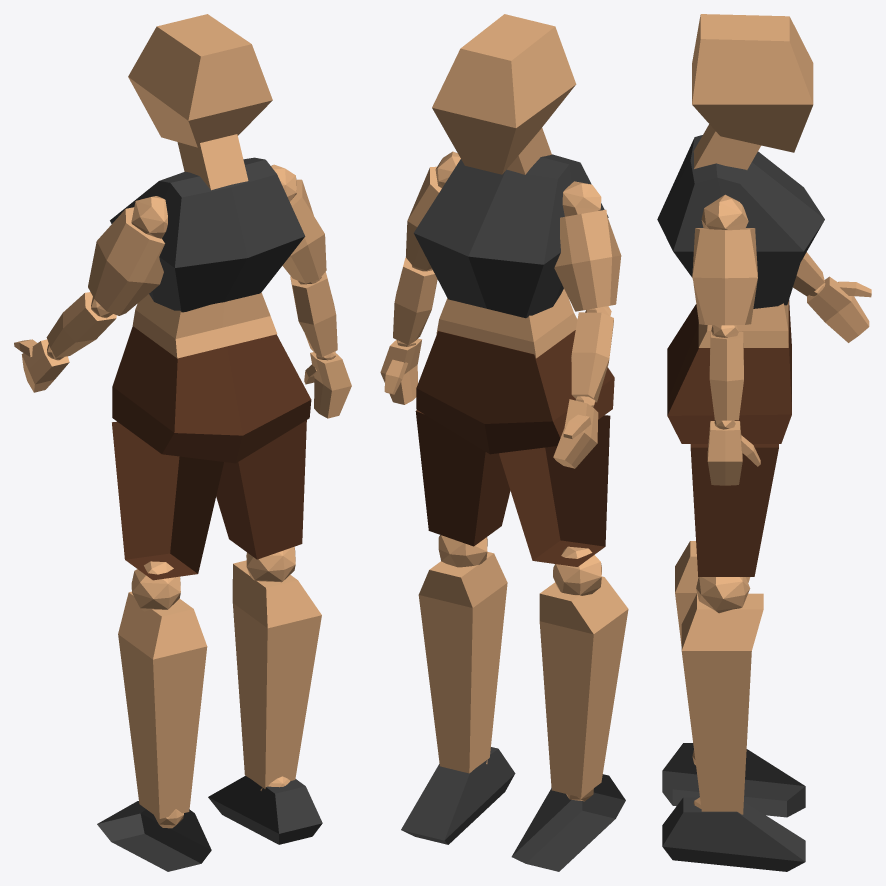
The model's file is yuuki.fbx.
3 views of the same model, side by side, from view 1: azimuth 30°, elevation 25°; view 2: azimuth 150°, elevation 25°; view 3: azimuth 270°, elevation 25° (orthographic).
Visible parts, largest first — view 1: Torso.001, Cube.017, Cube.021, Cube.019, Head.001, BeinLi.001, BeinRe.001, Cube.018, Cube.005, Cube.020, Cube.022, Cube.036 (+8 smaller); view 2: Cube.017, Torso.001, Head.001, Cube.019, Cube.021, BeinLi.001, BeinRe.001, Cube.020, Cube.022, Cube.005, Cube.018, Cube.008 (+10 smaller); view 3: Head.001, Cube.019, Cube.017, Torso.001, BeinRe.001, Cube.020, Cube.035, Cube.022, Cube.036, Cube.011, Cube.018, Cube.037 (+5 smaller).
Boxes of the visible parts, bbox=[...] form: Torso.001: bbox=[112, 326, 311, 463]; Cube.017: bbox=[110, 157, 305, 312]; Cube.021: bbox=[118, 591, 207, 818]; Cube.019: bbox=[232, 560, 321, 788]; Head.001: bbox=[128, 14, 272, 147]; BeinLi.001: bbox=[112, 421, 223, 580]; BeinRe.001: bbox=[216, 420, 306, 559]; Cube.018: bbox=[132, 292, 277, 358]; Cube.005: bbox=[88, 207, 164, 315]; Cube.020: bbox=[208, 776, 322, 844]; Cube.022: bbox=[97, 801, 211, 871]; Cube.036: bbox=[290, 271, 337, 357]; Cube.017: bbox=[414, 154, 608, 318]; Torso.001: bbox=[416, 330, 614, 454]; Head.001: bbox=[432, 14, 576, 174]; Cube.019: bbox=[418, 551, 507, 773]; Cube.021: bbox=[539, 576, 628, 797]; BeinLi.001: bbox=[499, 415, 610, 566]; BeinRe.001: bbox=[415, 410, 510, 546]; Cube.020: bbox=[401, 747, 515, 844]; Cube.022: bbox=[511, 774, 625, 871]; Cube.005: bbox=[554, 209, 621, 311]; Cube.018: bbox=[436, 289, 577, 358]; Cube.008: bbox=[571, 312, 613, 402]; Head.001: bbox=[692, 14, 813, 152]; Cube.019: bbox=[681, 593, 763, 814]; Cube.017: bbox=[657, 135, 824, 308]; Torso.001: bbox=[667, 300, 791, 443]; BeinRe.001: bbox=[690, 444, 778, 576]; Cube.020: bbox=[662, 797, 805, 871]; Cube.035: bbox=[692, 228, 757, 325]; Cube.022: bbox=[662, 743, 805, 817]; Cube.036: bbox=[709, 331, 743, 420]; Cube.011: bbox=[807, 276, 869, 342]; Cube.018: bbox=[698, 301, 788, 347]; Cube.037: bbox=[707, 421, 742, 485].
Size of the model in its own units: 87.14 by 259 by 62.21.
